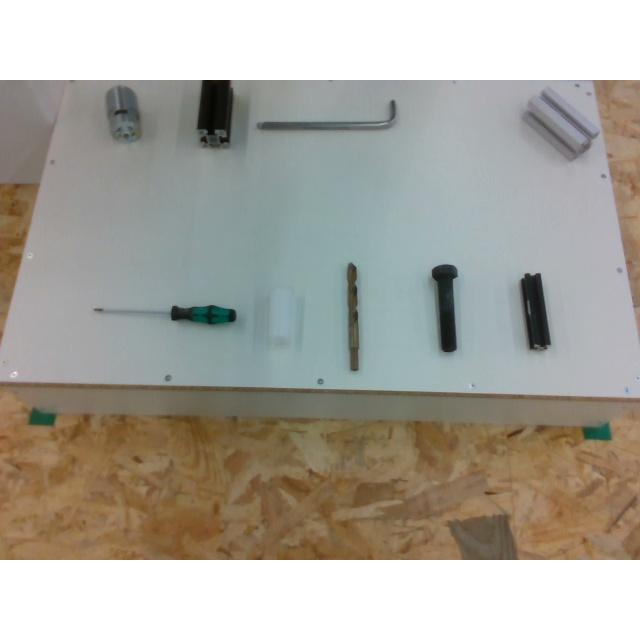AllenKey: (256, 100, 396, 128)
Drill: (346, 262, 358, 371)
F20_20_B: (521, 272, 551, 352)
M20_100: (430, 264, 458, 352)
Motor2: (106, 85, 140, 141)
S40_40_B: (198, 80, 234, 146)
S40_40_G: (527, 86, 599, 158)
Screwdriver: (92, 304, 235, 324)
Spacer: (268, 288, 300, 348)
